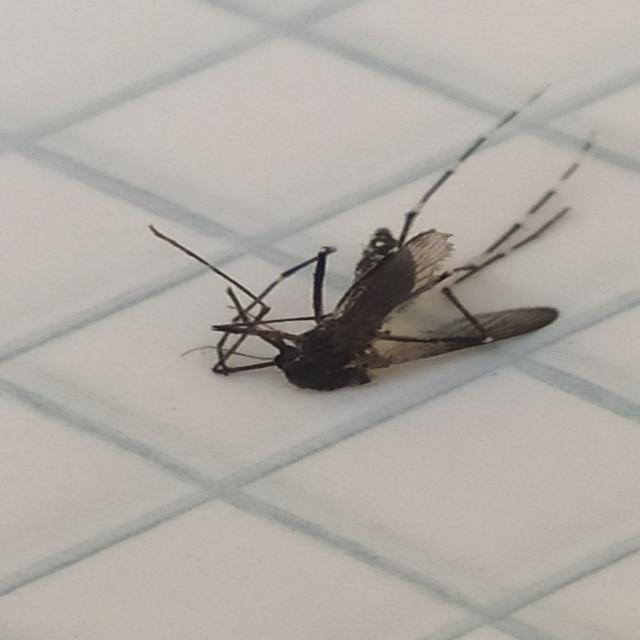albopictus: (146, 79, 580, 393)
